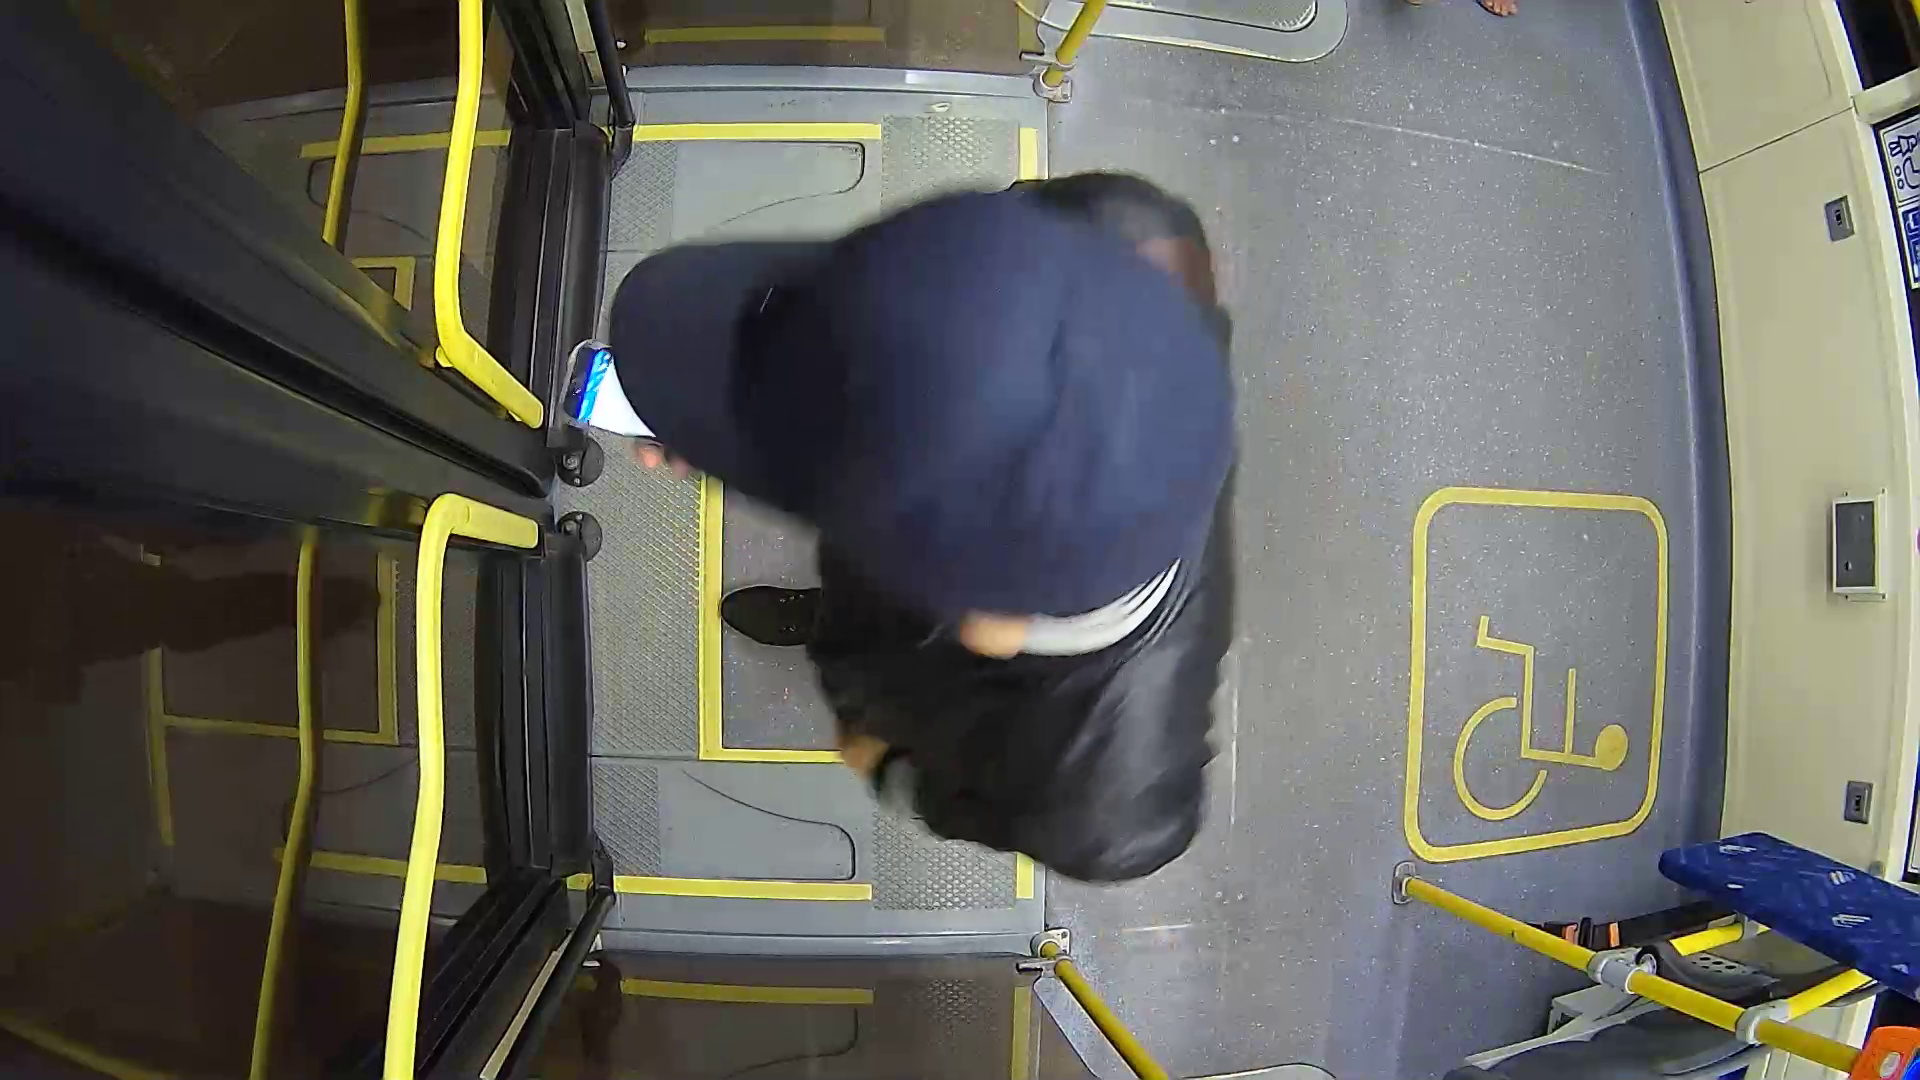person: (571, 160, 1271, 869)
